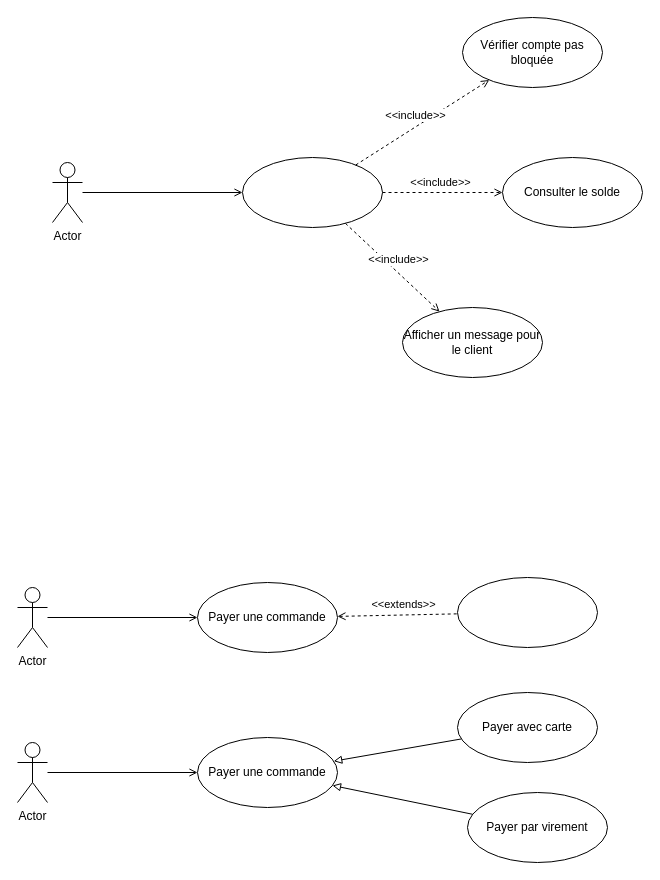
The diagram is 660 pixels wide and 880 high, and some of its shapes have lost their labels. Here are the shapes that lost their labels. From the top down, the box of each, then its label:
(242, 156, 382, 228): Faire un virement
(456, 576, 598, 648): S'abonner aux offres
